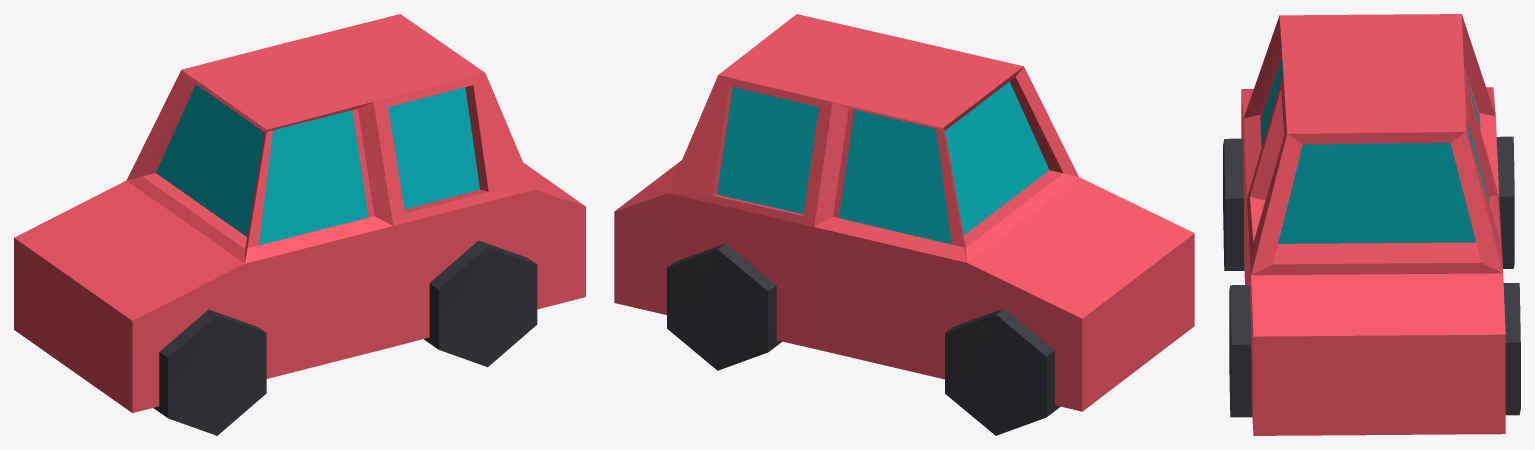
File: Car1.fbx
3 renders of one model, left to right at view 1: azimuth 30°, elevation 25°; view 2: azimuth 150°, elevation 25°; view 3: azimuth 270°, elevation 25°, orthographic. The views are drawn at different scales.
Parts seen in each view (by area): view 1: Cube.041; view 2: Cube.041; view 3: Cube.041.
Part boxes in pixels (<box>): Cube.041: <box>14,14,585,435</box>; Cube.041: <box>614,14,1194,435</box>; Cube.041: <box>1223,14,1520,435</box>.
Size of the model in its own units: 518 by 289 by 263.
